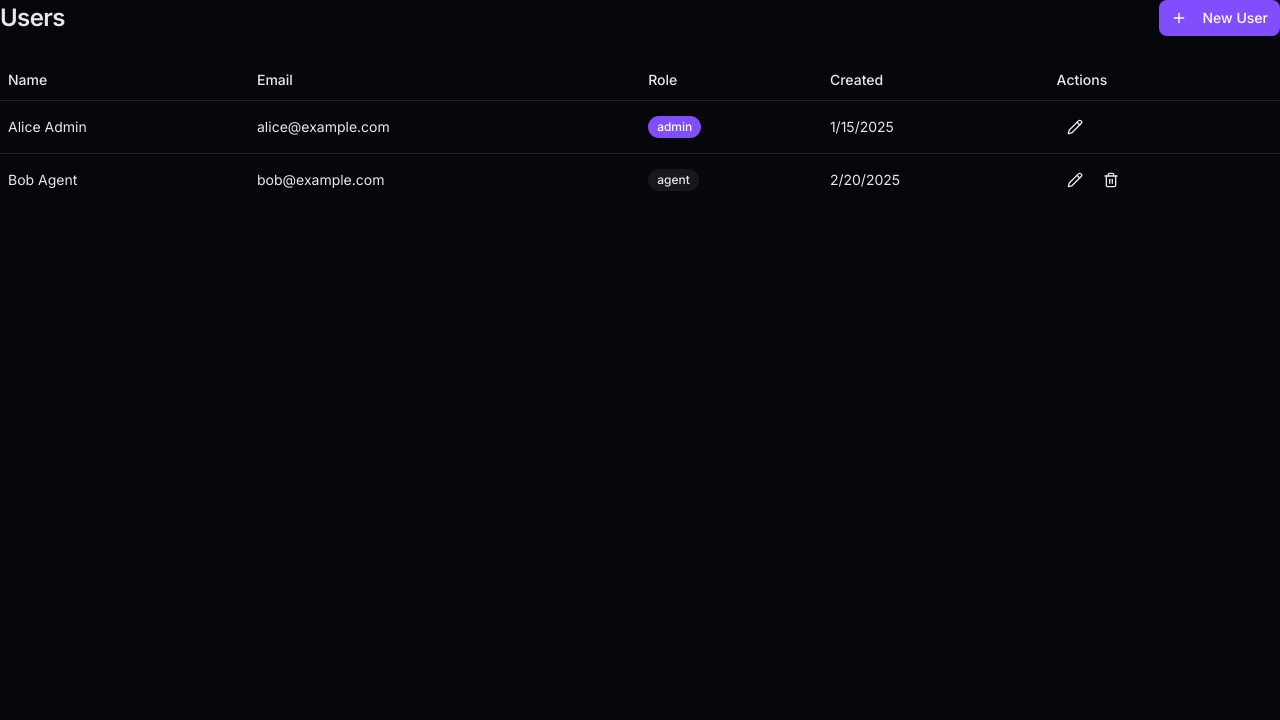
Test: UsersPage › should open edit dialog with 'Edit User' title when clicking edit button
Expected: the text "Alice Admin" is shown, [0,100,249,153]
Click the button named "Edit Alice Admin" at [1075, 126], box [1057,108,1093,144]
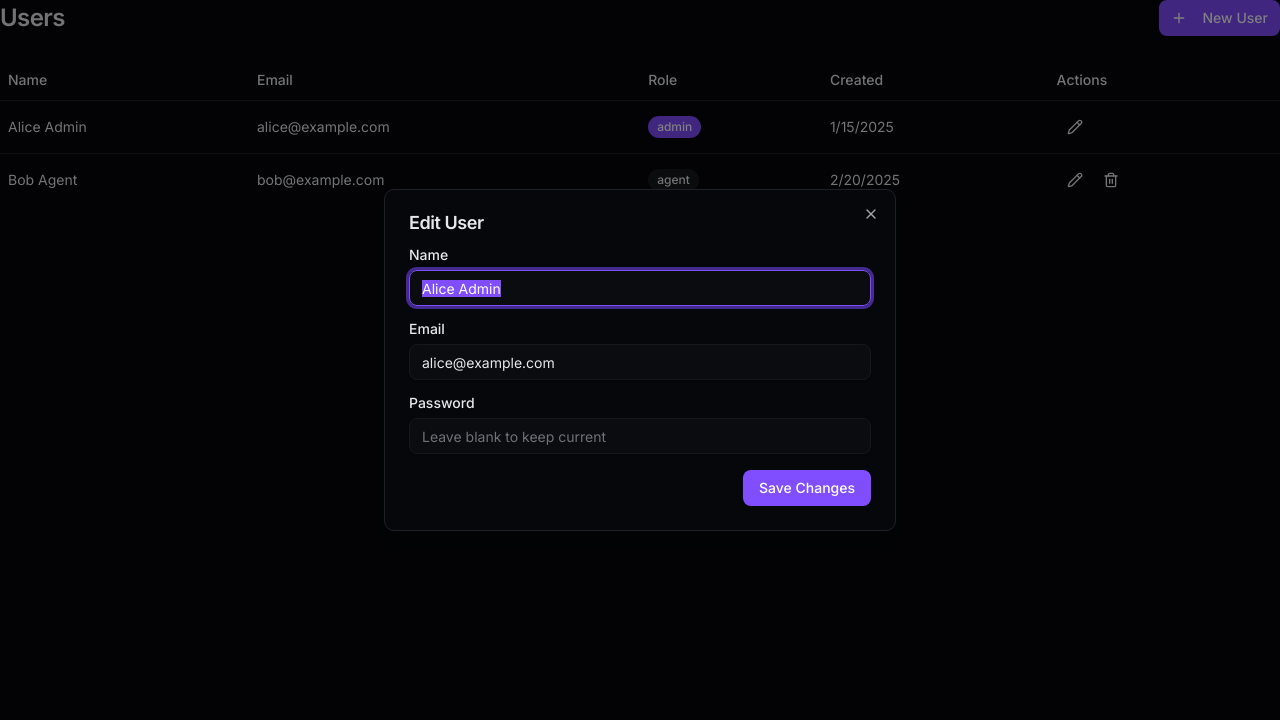
Now the dialog is shown, box [384,189,896,531]
Now the heading "Edit User" is shown, box [409,212,484,233]
